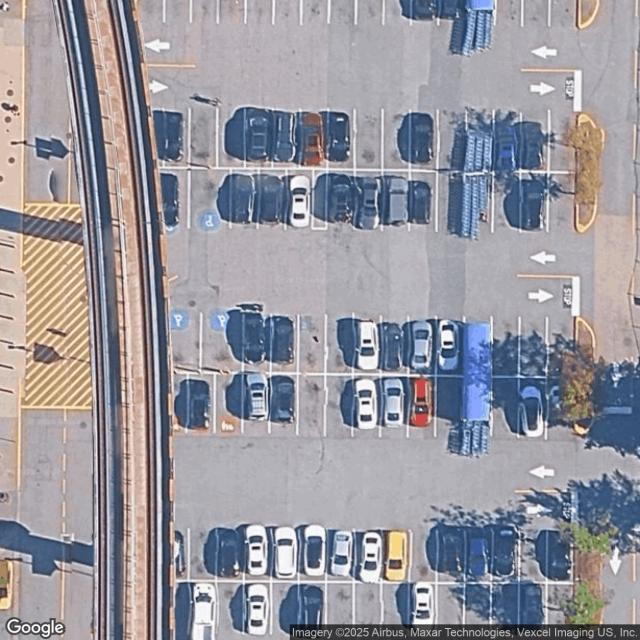car: (203, 528, 241, 576), (190, 582, 217, 638), (403, 320, 433, 369), (299, 111, 325, 165), (518, 384, 544, 435), (245, 583, 270, 635), (273, 526, 298, 577), (383, 530, 408, 581), (231, 173, 256, 224), (409, 112, 434, 163), (258, 176, 284, 225), (357, 177, 381, 230), (377, 322, 404, 369), (353, 378, 378, 428), (521, 180, 545, 232), (273, 109, 296, 163), (381, 378, 406, 427), (186, 379, 210, 430), (409, 377, 433, 427), (492, 528, 517, 576), (270, 315, 294, 365), (548, 529, 572, 579), (300, 584, 323, 636), (330, 175, 354, 223), (359, 531, 382, 581), (466, 526, 489, 576), (288, 175, 310, 227), (327, 110, 349, 162), (355, 321, 379, 368), (386, 175, 408, 226), (248, 111, 270, 162), (305, 524, 326, 577), (438, 321, 460, 371), (243, 312, 265, 362), (439, 526, 462, 573), (330, 530, 352, 579), (162, 112, 184, 161), (273, 377, 295, 424), (246, 374, 268, 420), (522, 126, 545, 170), (160, 177, 179, 230), (409, 180, 432, 223), (412, 582, 434, 626), (496, 125, 517, 171), (248, 525, 264, 576), (174, 530, 186, 575)
lot_boundary: (138, 1, 640, 638)
